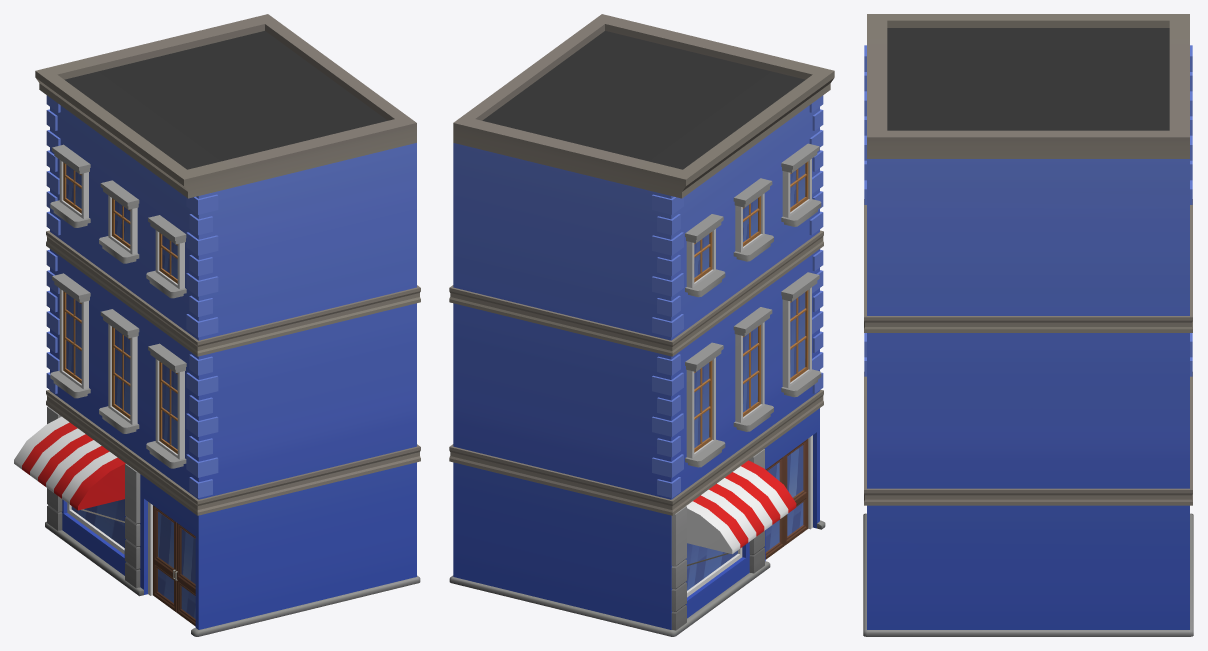
The model's file is Building_8_1_A.fbx.
3 views of the same model, side by side, from view 1: azimuth 30°, elevation 25°; view 2: azimuth 150°, elevation 25°; view 3: azimuth 270°, elevation 25° (orthographic). The views are drawn at different scales.
Parts seen in each view (by area): view 1: Building 8_1_A; view 2: Building 8_1_A; view 3: Building 8_1_A.
Part boxes in pixels (x1,y1,x2,y2): Building 8_1_A: (14,14,420,636); Building 8_1_A: (449,14,834,636); Building 8_1_A: (863,14,1193,636).
Size of the model in its own units: 681 by 1108 by 667.
